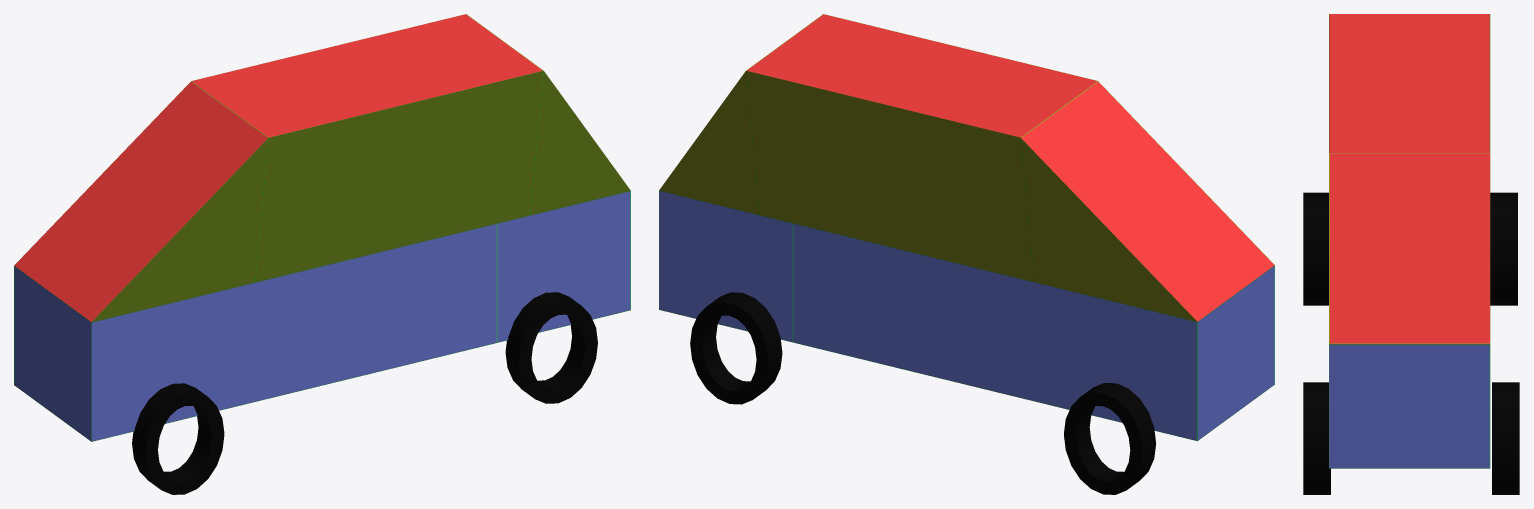
The model's file is carTryAndres.obj.
3 renders of one model, left to right at view 1: azimuth 30°, elevation 25°; view 2: azimuth 150°, elevation 25°; view 3: azimuth 270°, elevation 25°, orthographic. The views are drawn at different scales.
Parts seen in each view (by area): view 1: carTryAndres; view 2: carTryAndres; view 3: carTryAndres.
Boxes of the visible parts, x1=… form: carTryAndres: x1=14, y1=14, x2=630, y2=494; carTryAndres: x1=659, y1=14, x2=1274, y2=494; carTryAndres: x1=1303, y1=14, x2=1519, y2=494.
Bounding box in the file's own units: 85.49 × 49.08 × 28.57.
Materials: 1 (1 with a texture image).
